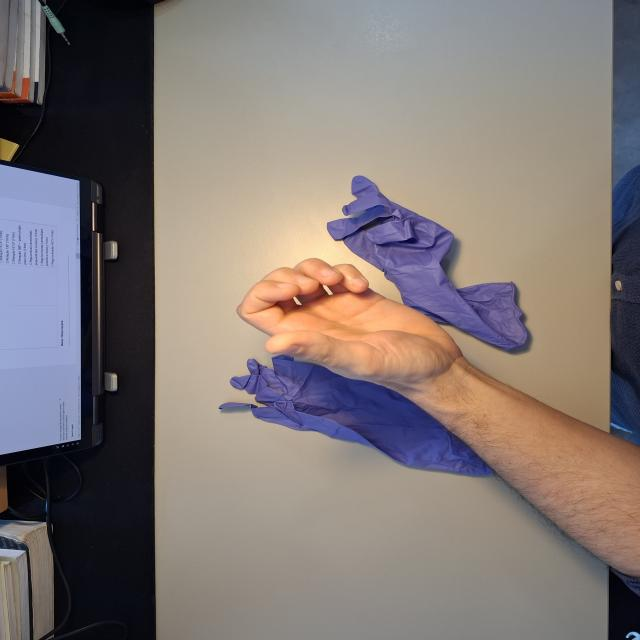glove_off: (232, 255, 469, 395)
